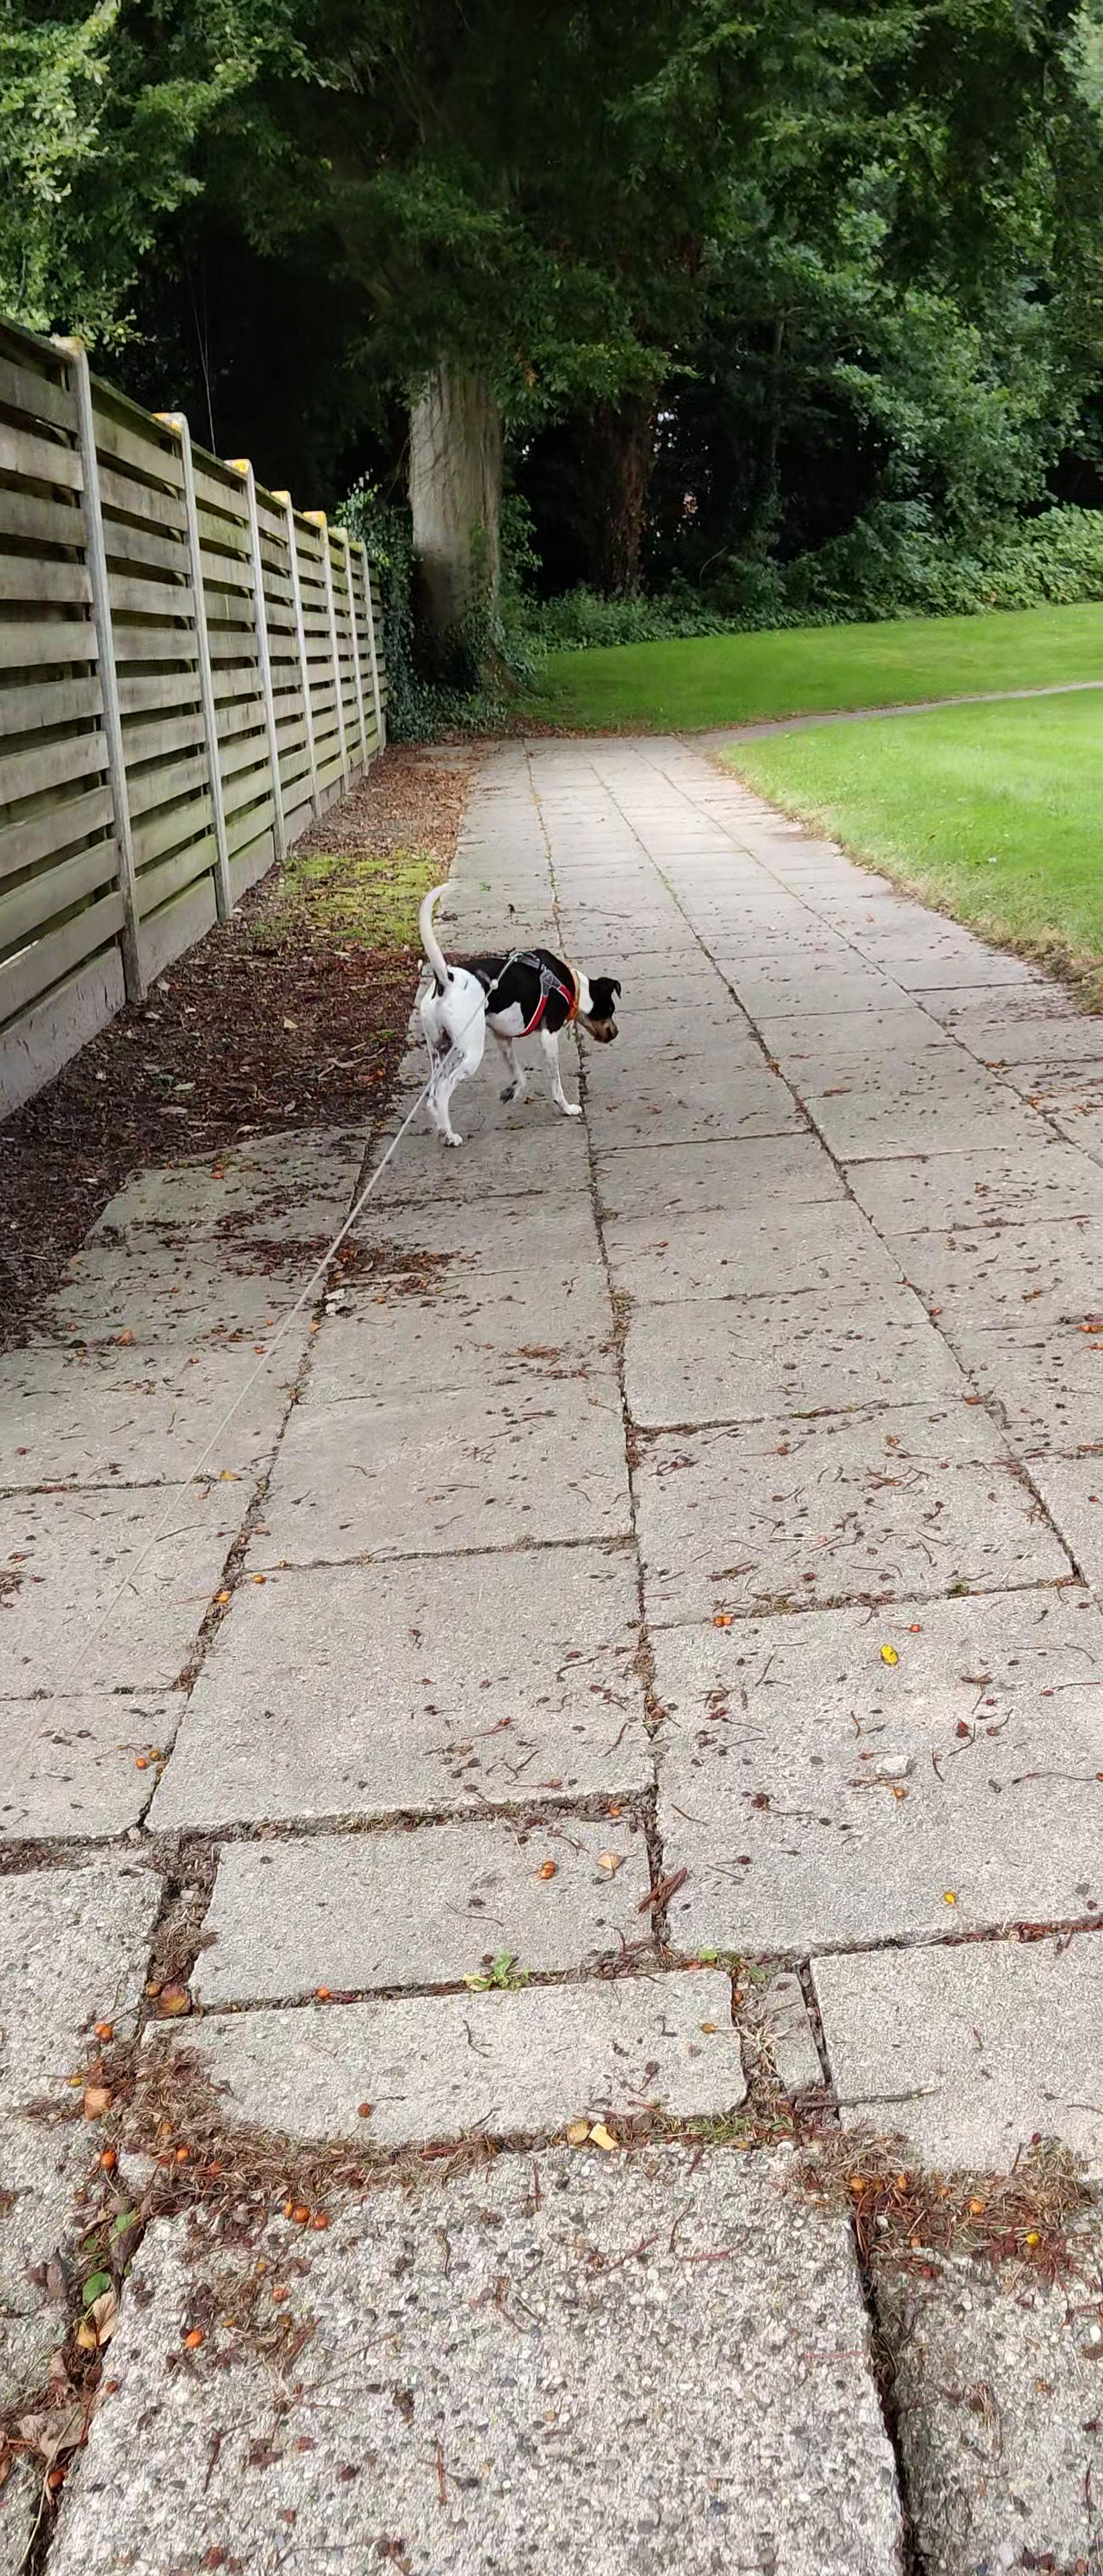Dog: (385, 872, 639, 1157)
